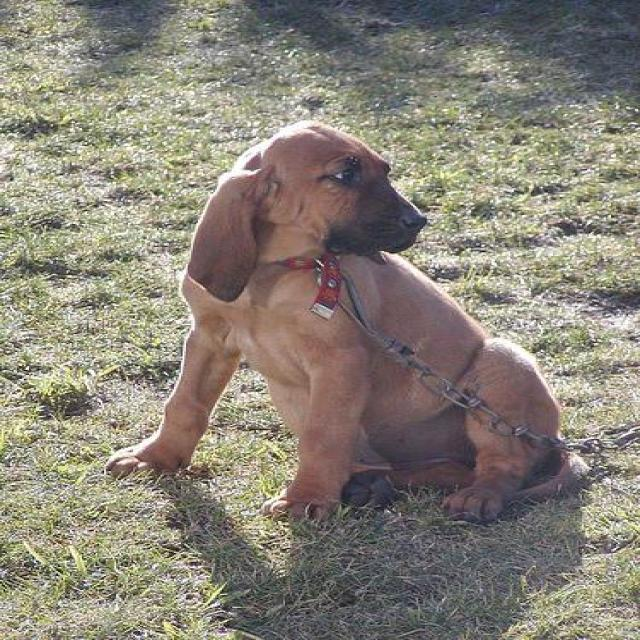bloodhound: (95, 113, 598, 527)
